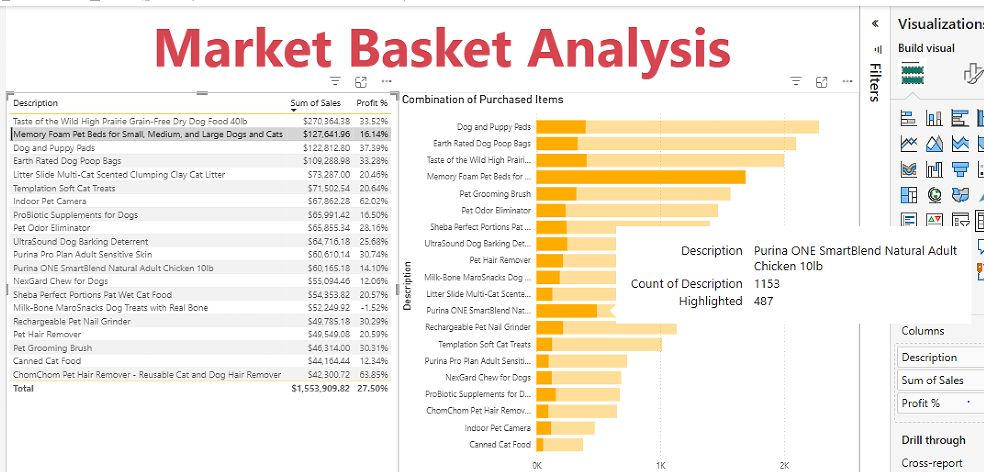

What the dashboard file says about the page in this screenshot:
{"tool":"powerbi","page":{"name":"Market Basket Analysis","canvas":[1280,720],"ordinal":8},"visuals":[{"type":"tableEx","fields":{"Values":["Sales.Description","Sum(Sales.Sales)","New_Measures.Profit %"]},"box":[0,129.3,589.2,590.7],"z":0},{"type":"clusteredBarChart","title":"Combination of Purchased Items","fields":{"Category":["Market Basket.Description"],"Y":["CountNonNull(Market Basket.Description)"]},"box":[589.2,129.3,690.6,590.7],"z":1000},{"type":"textbox","box":[149.9,0,1008,129.3],"z":2000}]}

Visuals, with their boxes on the page's 1280x720 design canvas (x1, y1, x2, y2). These are canvas units, not pixel positions in the 984x472 screenshot, which may show the page scaled, cropped or inside an application window:
tableEx - Sales.Description x Sum(Sales.Sales): locate(0, 129, 589, 720)
"Combination of Purchased Items" clusteredBarChart: locate(589, 129, 1280, 720)
textbox: locate(150, 0, 1158, 129)
